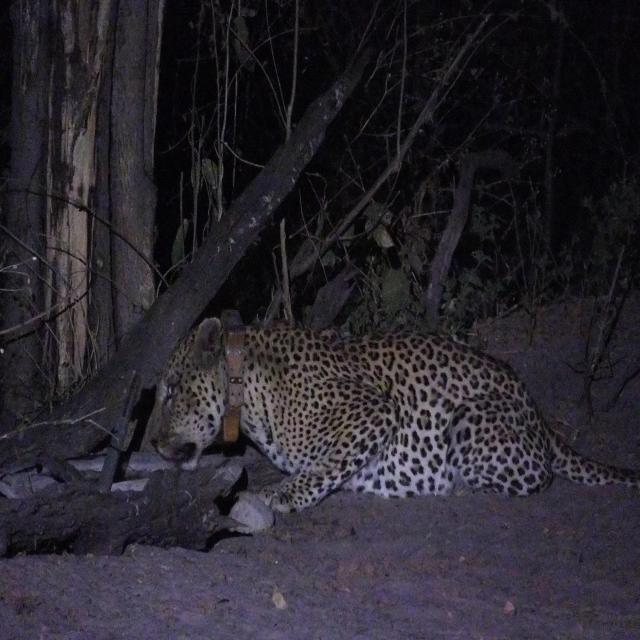Leopard: (151, 316, 640, 532)
